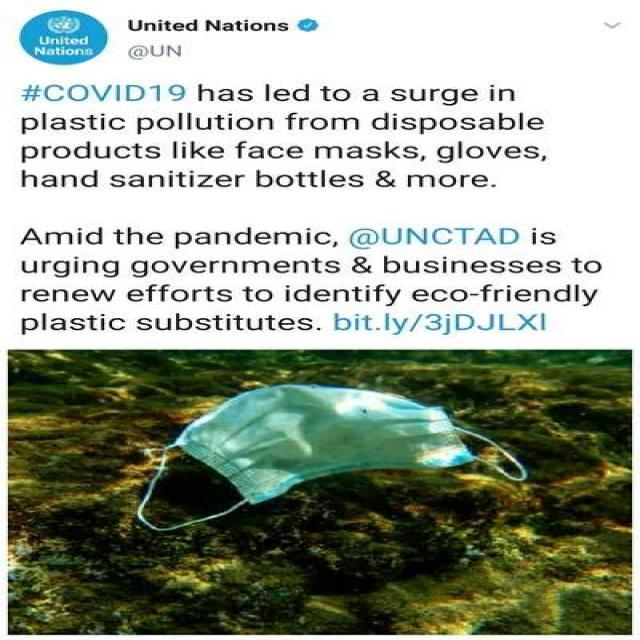face mask: (129, 382, 532, 535)
